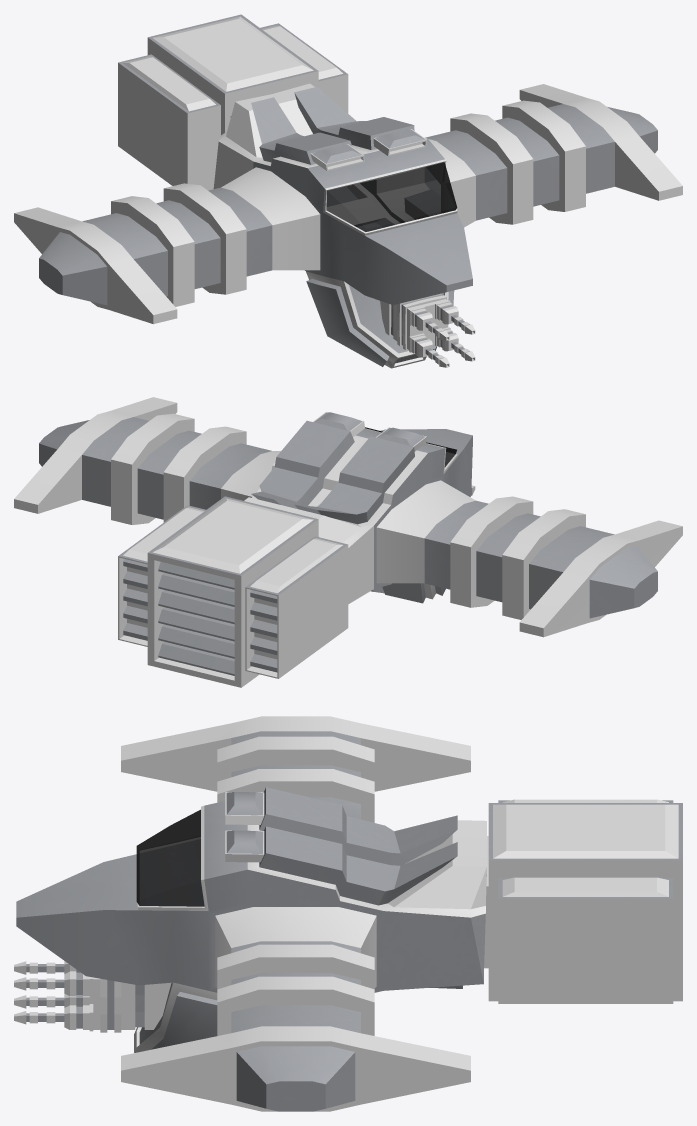
The model's file is CEC.fbx.
The picture shows the model from 3 angles, top to bottom: view 1: azimuth 30°, elevation 25°; view 2: azimuth 150°, elevation 25°; view 3: azimuth 270°, elevation 25°; orthographic projection. The views are drawn at different scales.
Visible parts, largest first — view 1: CEC; view 2: CEC; view 3: CEC.
Boxes of the visible parts, bbox=[...] form: CEC: bbox=[14, 14, 682, 368]; CEC: bbox=[14, 397, 682, 687]; CEC: bbox=[14, 716, 682, 1111].
Size of the model in its own units: 8.9 by 2.8 by 6.89.
